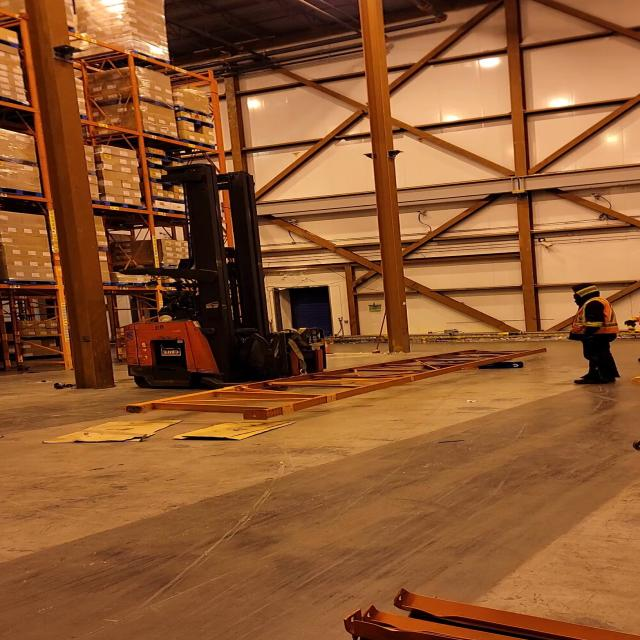forklift: (120, 170, 334, 396)
human: (136, 286, 247, 344), (564, 282, 622, 385), (628, 284, 640, 365)
objectofinterest: (114, 343, 554, 417), (42, 415, 187, 445), (170, 416, 300, 442), (473, 356, 528, 372)
